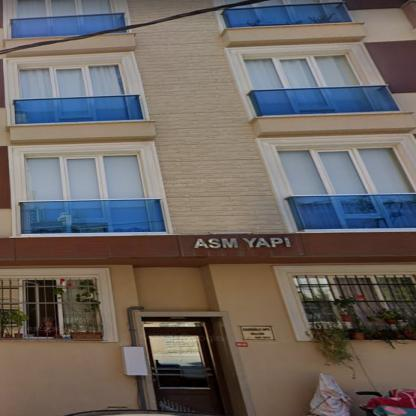door: (149, 330, 221, 414)
window: (276, 145, 416, 195), (294, 276, 415, 326), (23, 153, 147, 199), (244, 54, 362, 89), (17, 63, 126, 98), (15, 0, 112, 18), (1, 282, 18, 309)
